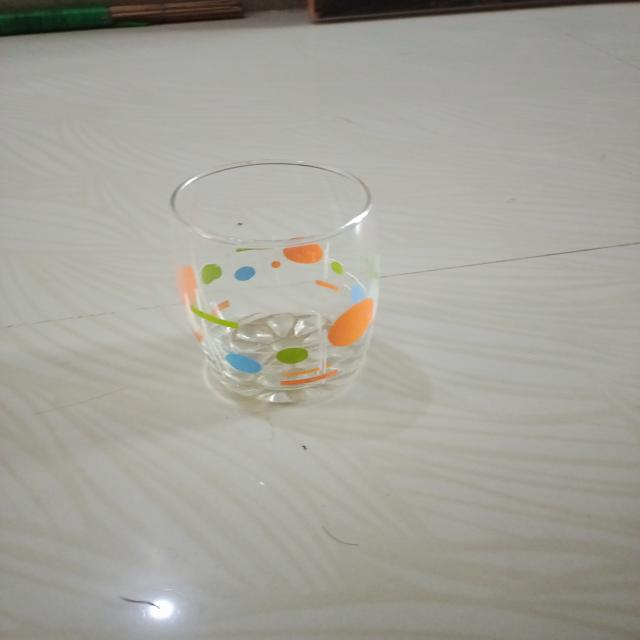Glass: (166, 155, 388, 408)
